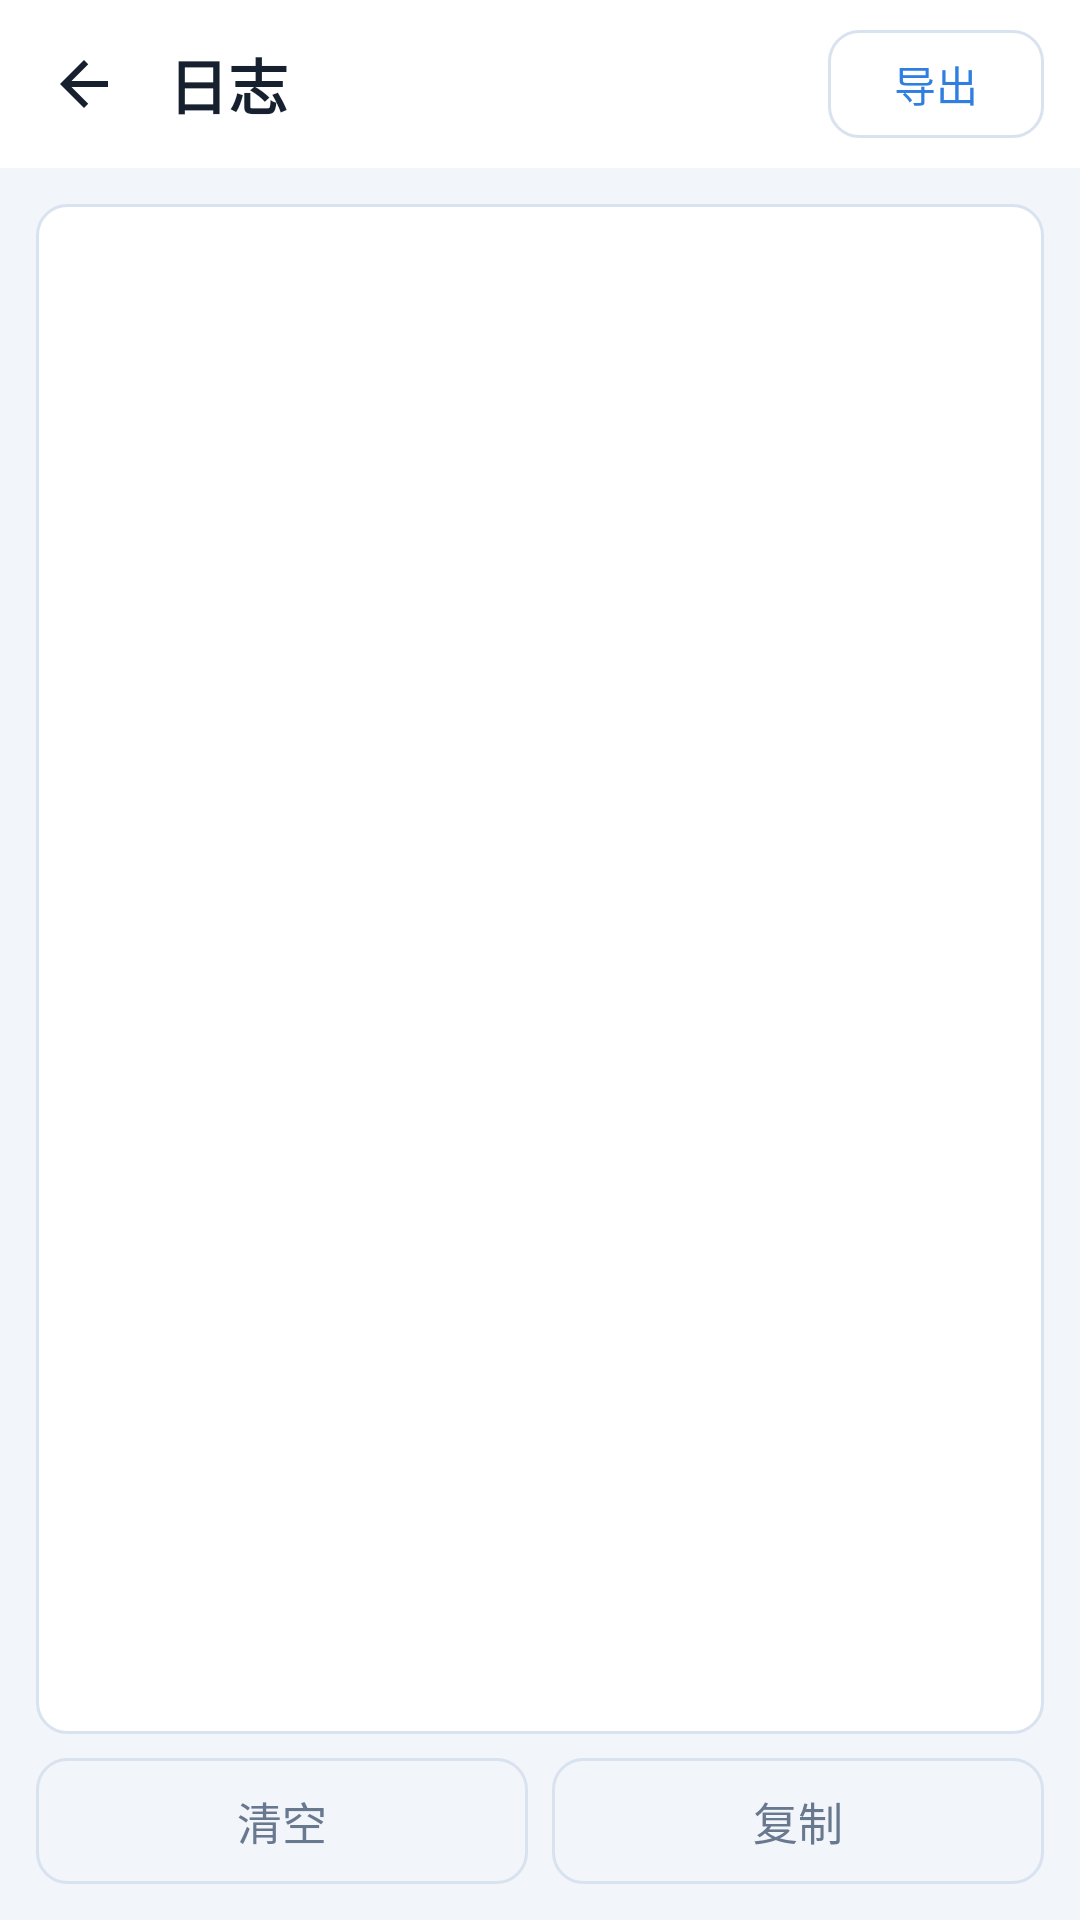

Icon click points for this 1080*1920 phone screenshot, format [x,y]:
返回: [84,84]
